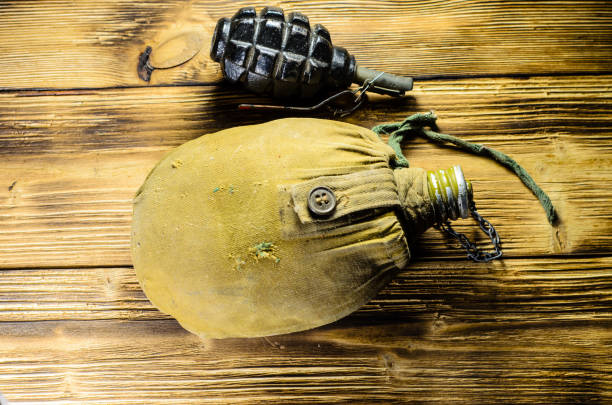e1: (213, 3, 405, 113)
